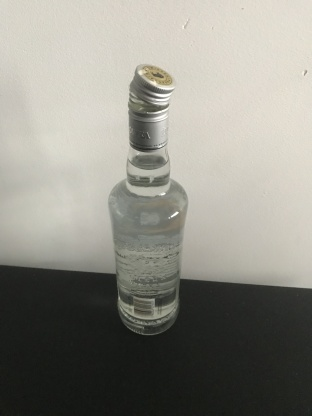nakretka: (126, 61, 176, 152)
